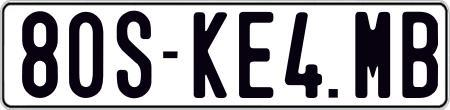0: (67, 11, 107, 101)
4: (283, 9, 323, 95)
8: (20, 8, 56, 99)
B: (400, 10, 432, 98)
E: (236, 9, 271, 97)
K: (192, 9, 225, 96)
M: (352, 11, 389, 97)
S: (114, 10, 150, 100)
